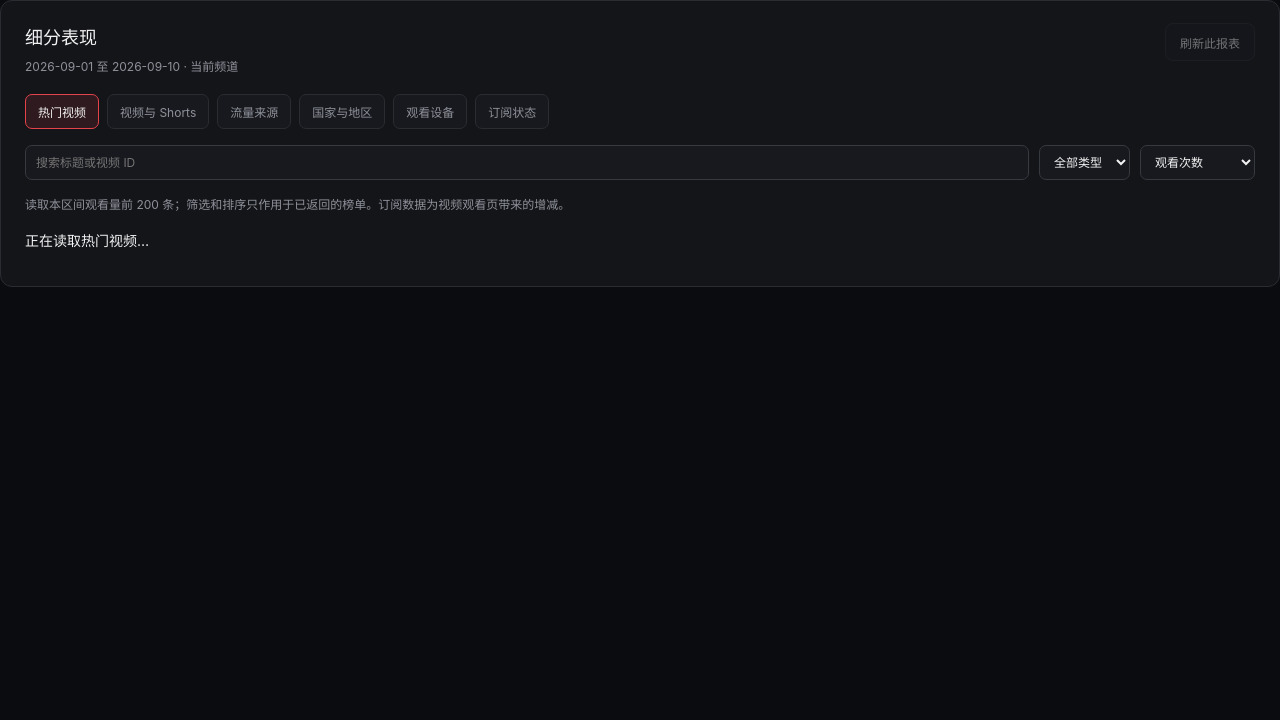
it: ignores late tab responses and discards cached reports on range or revision changes
Click the button "观看设备" at x=430, y=112, box [393, 94, 467, 129]
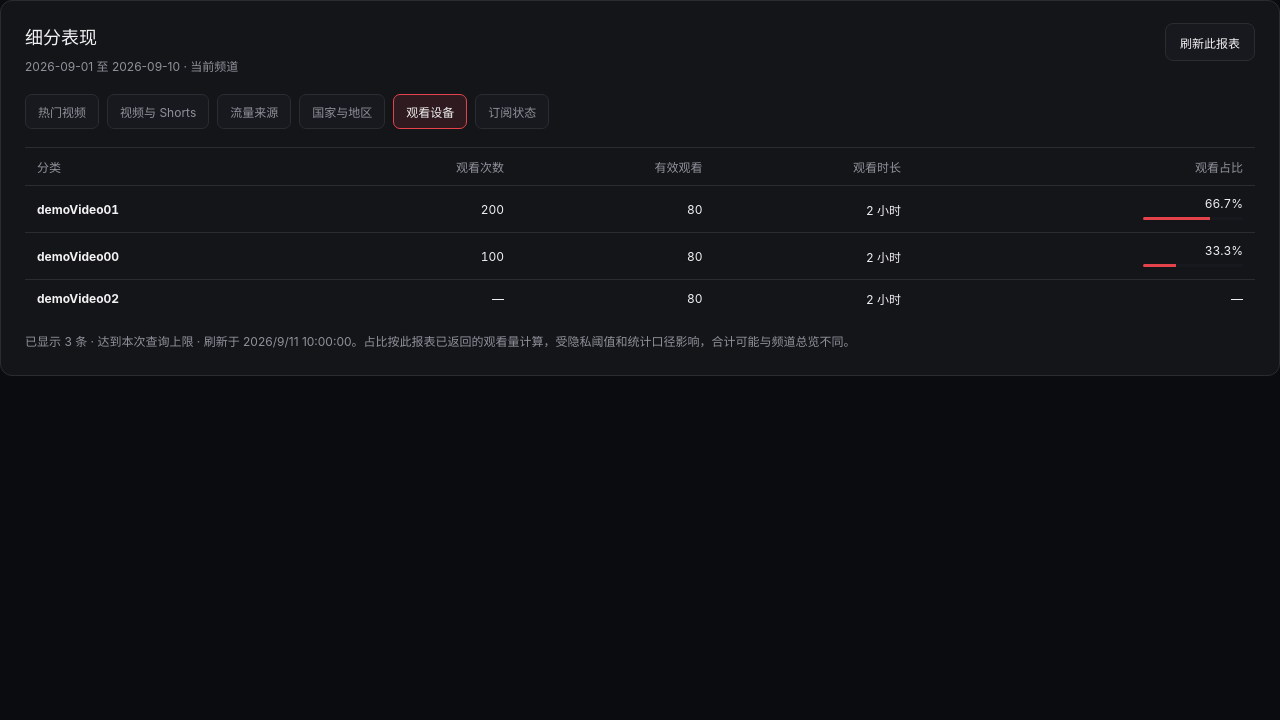
Expected: the message is gone
Click the button "热门视频" at x=62, y=112, box [25, 94, 99, 129]
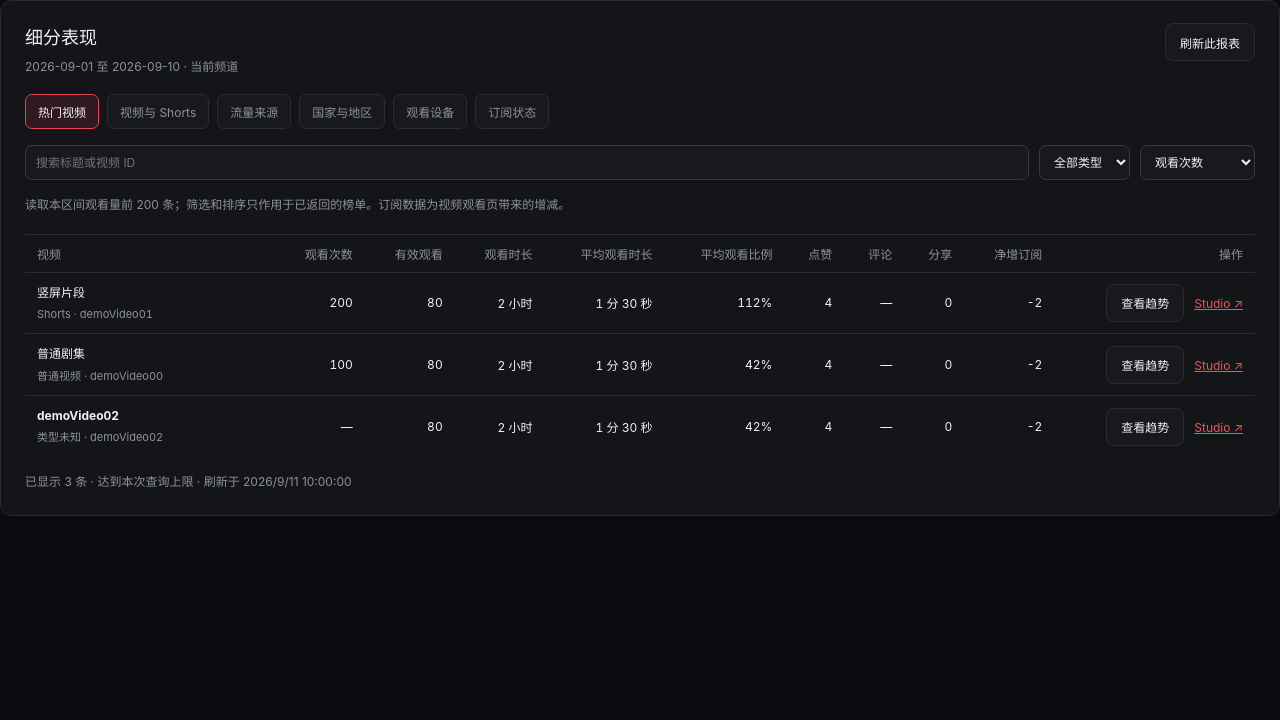
Expected: the text "普通剧集" is shown, [37, 346, 85, 361]
